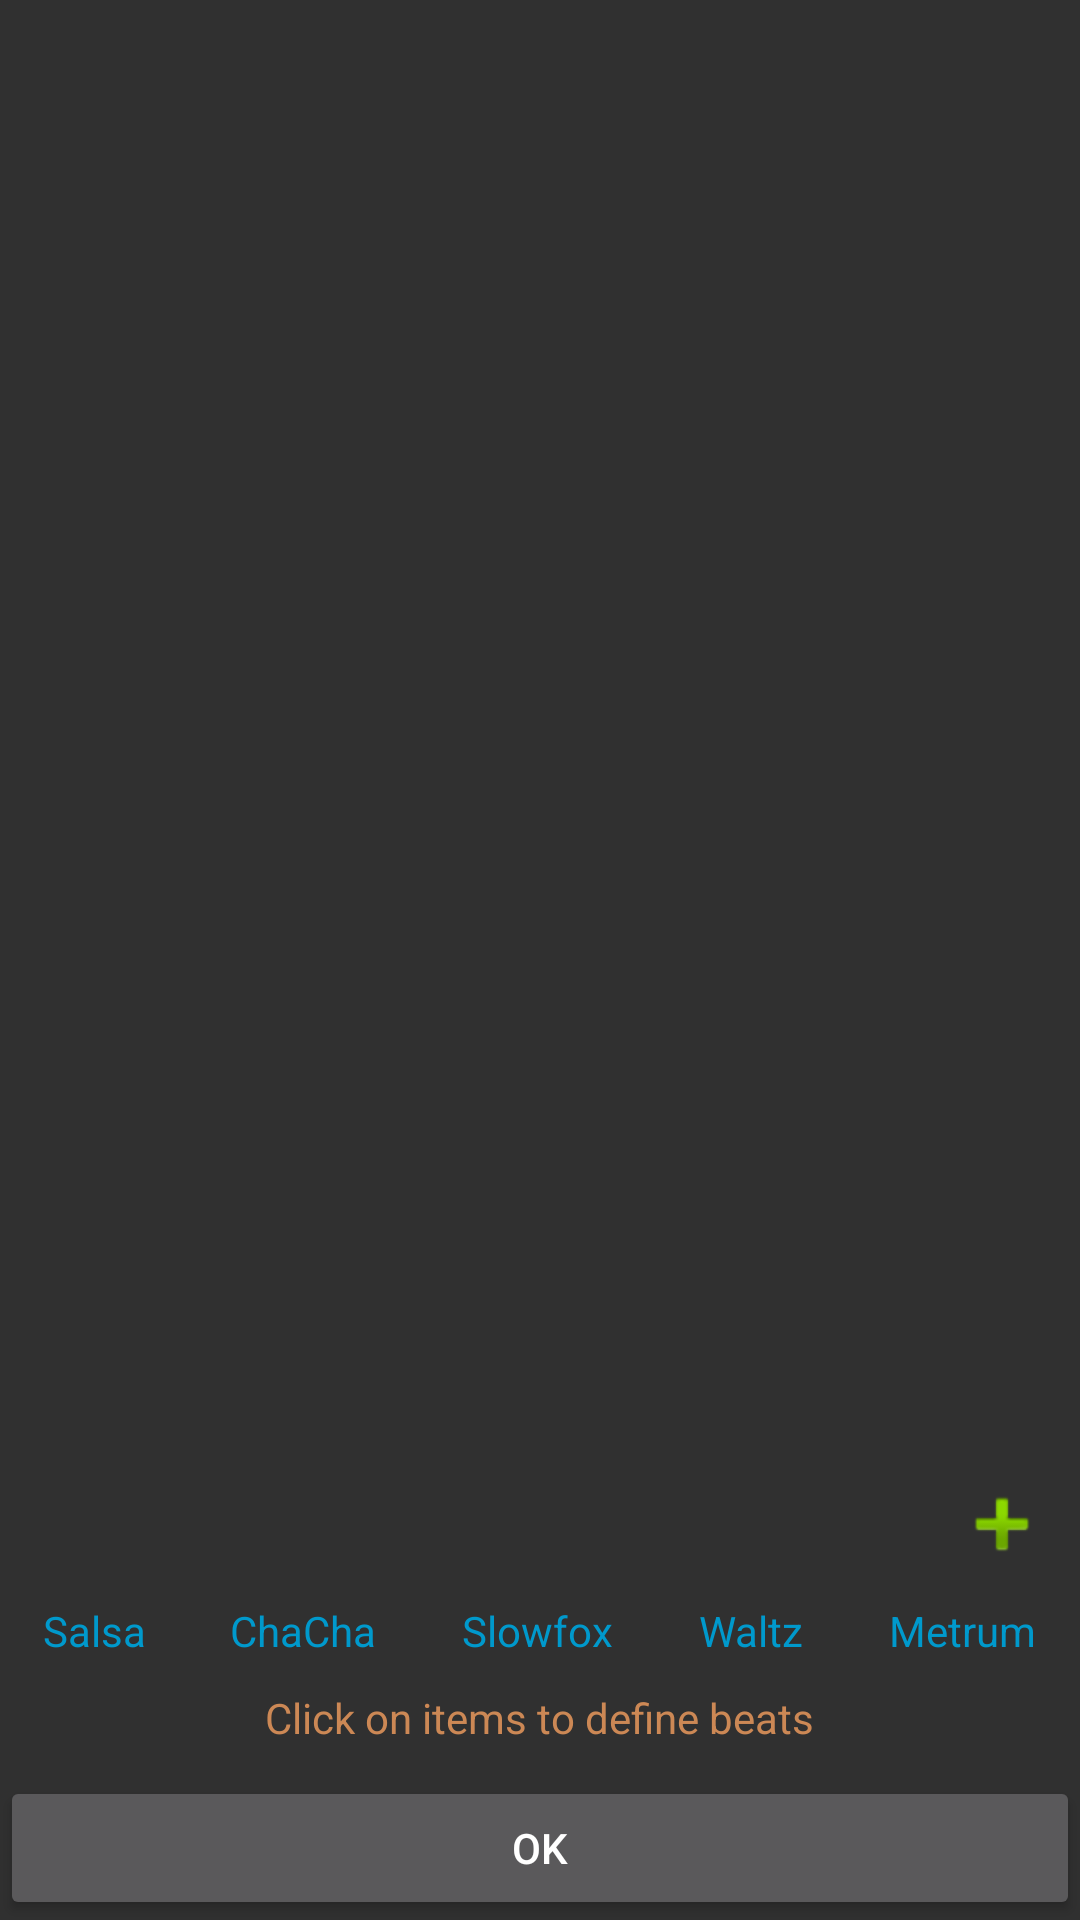

Where icons sit on this 1080×1920 app screen, as box(x1, y1, x2, y2):
add: box(975, 1497, 1029, 1551)
